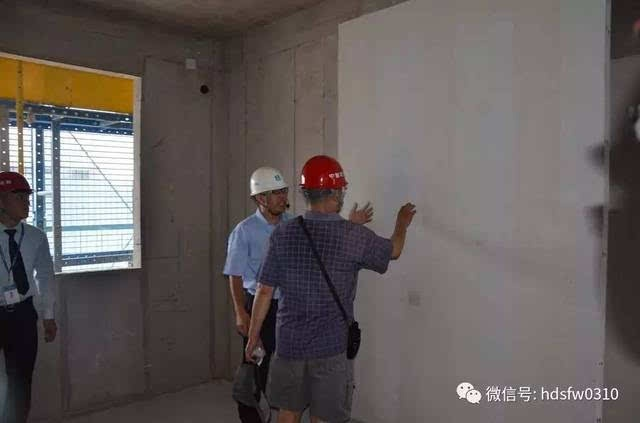red: (295, 151, 352, 218), (1, 169, 33, 224)
white: (245, 163, 291, 215)
